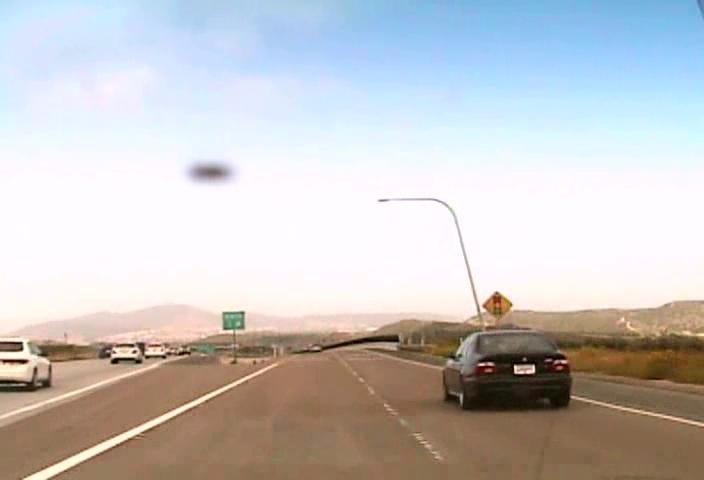signalAhead: (481, 290, 513, 320)
